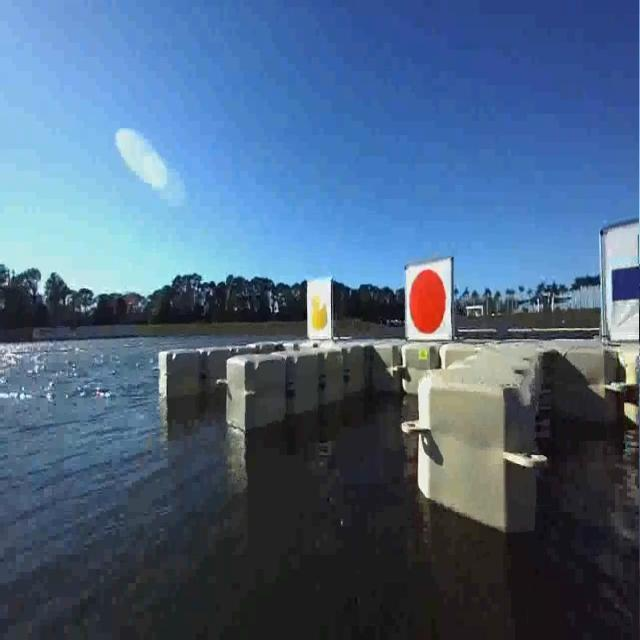blue-cross: (600, 227, 640, 345)
red-dot: (407, 261, 452, 341)
yellow-duck: (306, 282, 331, 341)
